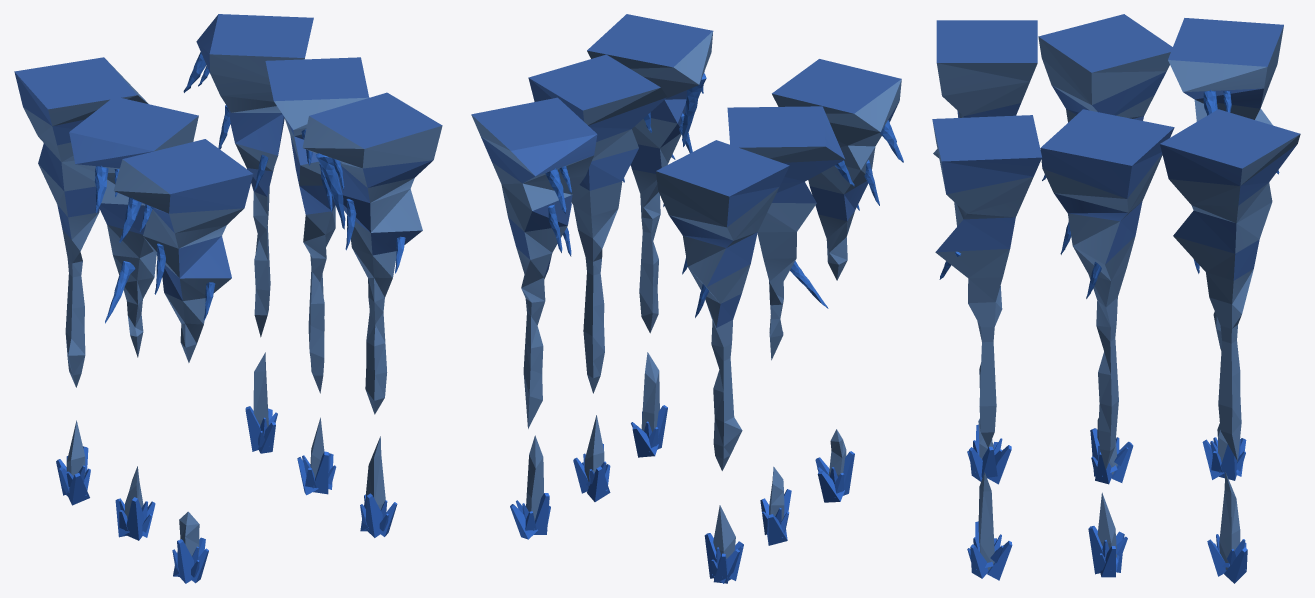
File: Ice_ColumnsBossRoom.fbx
3 views of the same model, side by side, from view 1: azimuth 30°, elevation 25°; view 2: azimuth 150°, elevation 25°; view 3: azimuth 270°, elevation 25° (orthographic). The views are drawn at different scales.
Visible parts, largest first — view 1: IceColumn3, IceColumn, IceColumn5, IceColumn2, IceColumn1, IceColumn4; view 2: IceColumn2, IceColumn5, IceColumn4, IceColumn3, IceColumn, IceColumn1; view 3: IceColumn5, IceColumn4, IceColumn3, IceColumn1, IceColumn2, IceColumn.
Part boxes in pixels (<box>): IceColumn3: <box>302,92,442,537</box>; IceColumn: <box>113,139,253,583</box>; IceColumn5: <box>183,14,313,453</box>; IceColumn2: <box>14,57,148,505</box>; IceColumn1: <box>69,96,198,540</box>; IceColumn4: <box>265,57,369,495</box>; IceColumn2: <box>655,140,789,583</box>; IceColumn5: <box>471,97,597,539</box>; IceColumn4: <box>528,54,667,501</box>; IceColumn3: <box>587,14,713,457</box>; IceColumn: <box>772,59,903,502</box>; IceColumn1: <box>727,106,854,545</box>; IceColumn5: <box>1160,109,1300,583</box>; IceColumn4: <box>1040,109,1174,577</box>; IceColumn3: <box>932,115,1041,580</box>; IceColumn1: <box>1038,14,1175,484</box>; IceColumn2: <box>1168,18,1283,480</box>; IceColumn: <box>933,20,1037,484</box>.
Bounding box in the file's own units: 31.54 × 39.86 × 30.3.
